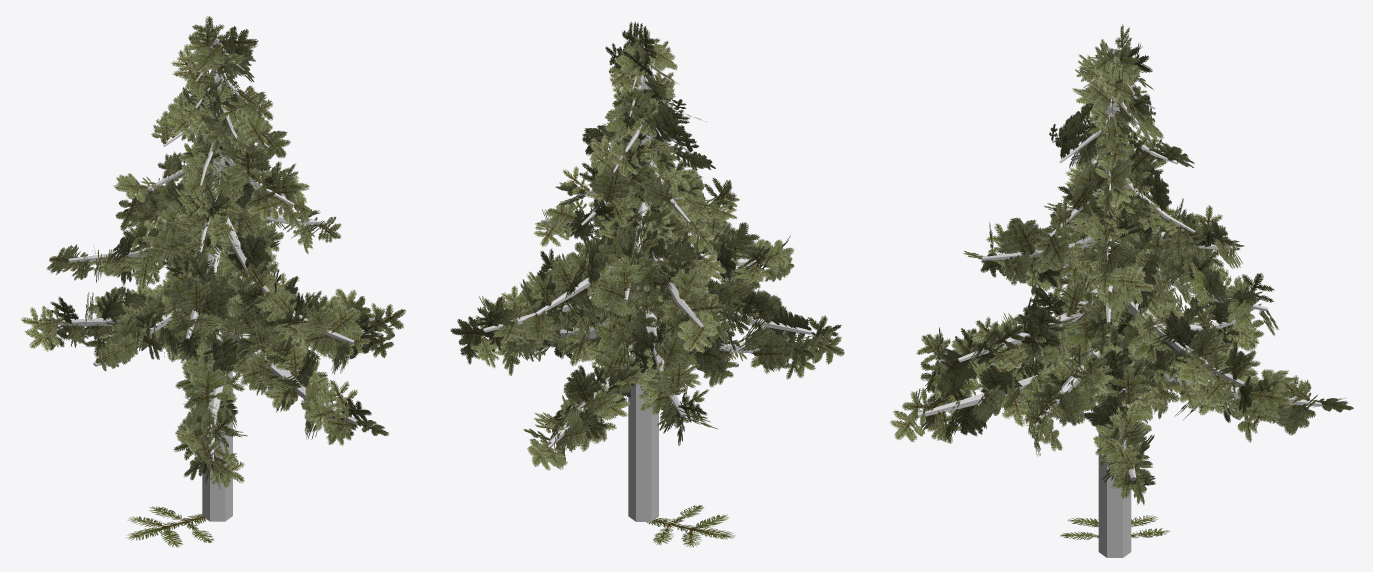
File: Pine Tree.dae
The picture shows the model from 3 angles, left to right: view 1: azimuth 30°, elevation 25°; view 2: azimuth 150°, elevation 25°; view 3: azimuth 270°, elevation 25°; orthographic projection. The views are drawn at different scales.
Parts seen in each view (by area): view 1: Cylinder_001, Cylinder, Plane, Plane_3877, Plane_1275; view 2: Cylinder_001, Cylinder, Plane; view 3: Cylinder_001, Cylinder, Plane.
Boxes of the visible parts, box(x1,y1,x2,y2) form: Cylinder_001: box(51, 38, 382, 463); Cylinder: box(202, 43, 232, 521); Plane: box(126, 506, 214, 547); Plane_3877: box(187, 369, 228, 406); Plane_1275: box(331, 305, 361, 339); Cylinder_001: box(473, 43, 811, 447); Cylinder: box(628, 73, 658, 521); Plane: box(646, 505, 735, 547); Cylinder_001: box(917, 48, 1321, 480); Cylinder: box(1098, 60, 1131, 557); Plane: box(1060, 514, 1169, 539).
Size of the model in its own units: 3.56 by 4.26 by 5.18.
Materials: 2 (1 with a texture image).
